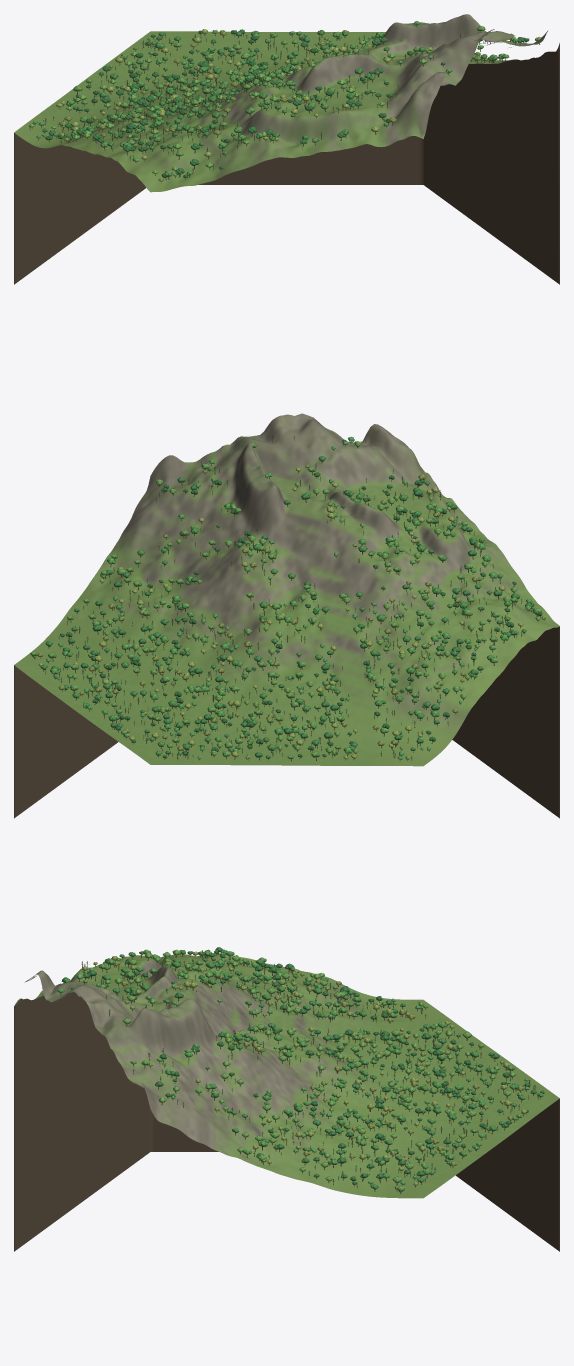
The picture shows the model from 3 angles, top to bottom: view 1: azimuth 30°, elevation 25°; view 2: azimuth 150°, elevation 25°; view 3: azimuth 270°, elevation 25°; orthographic projection.
Parts seen in each view (by area): view 1: hex_side_cut, terrain, broadleaf_canopy, trunks, conifer_canopy; view 2: terrain, broadleaf_canopy, hex_side_cut, trunks, conifer_canopy; view 3: terrain, hex_side_cut, broadleaf_canopy, trunks, conifer_canopy.
Part boxes in pixels (<box>): hex_side_cut: <box>14,43,559,284</box>; terrain: <box>14,14,547,192</box>; broadleaf_canopy: <box>29,21,541,181</box>; trunks: <box>30,25,540,183</box>; conifer_canopy: <box>29,32,526,176</box>; terrain: <box>14,413,559,766</box>; broadleaf_canopy: <box>30,436,545,759</box>; hex_side_cut: <box>14,626,559,818</box>; trunks: <box>34,437,544,761</box>; conifer_canopy: <box>45,435,540,758</box>; terrain: <box>14,953,559,1198</box>; hex_side_cut: <box>14,992,559,1251</box>; broadleaf_canopy: <box>42,947,544,1192</box>; trunks: <box>60,951,540,1193</box>; conifer_canopy: <box>81,950,538,1186</box>.
Bounding box in the file's own units: 4330 × 3085 × 5000.
Materials: 6 (1 with a texture image).
